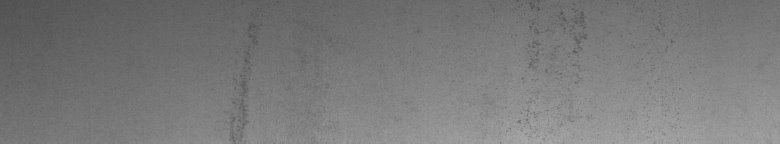ib: (506, 4, 587, 135)
